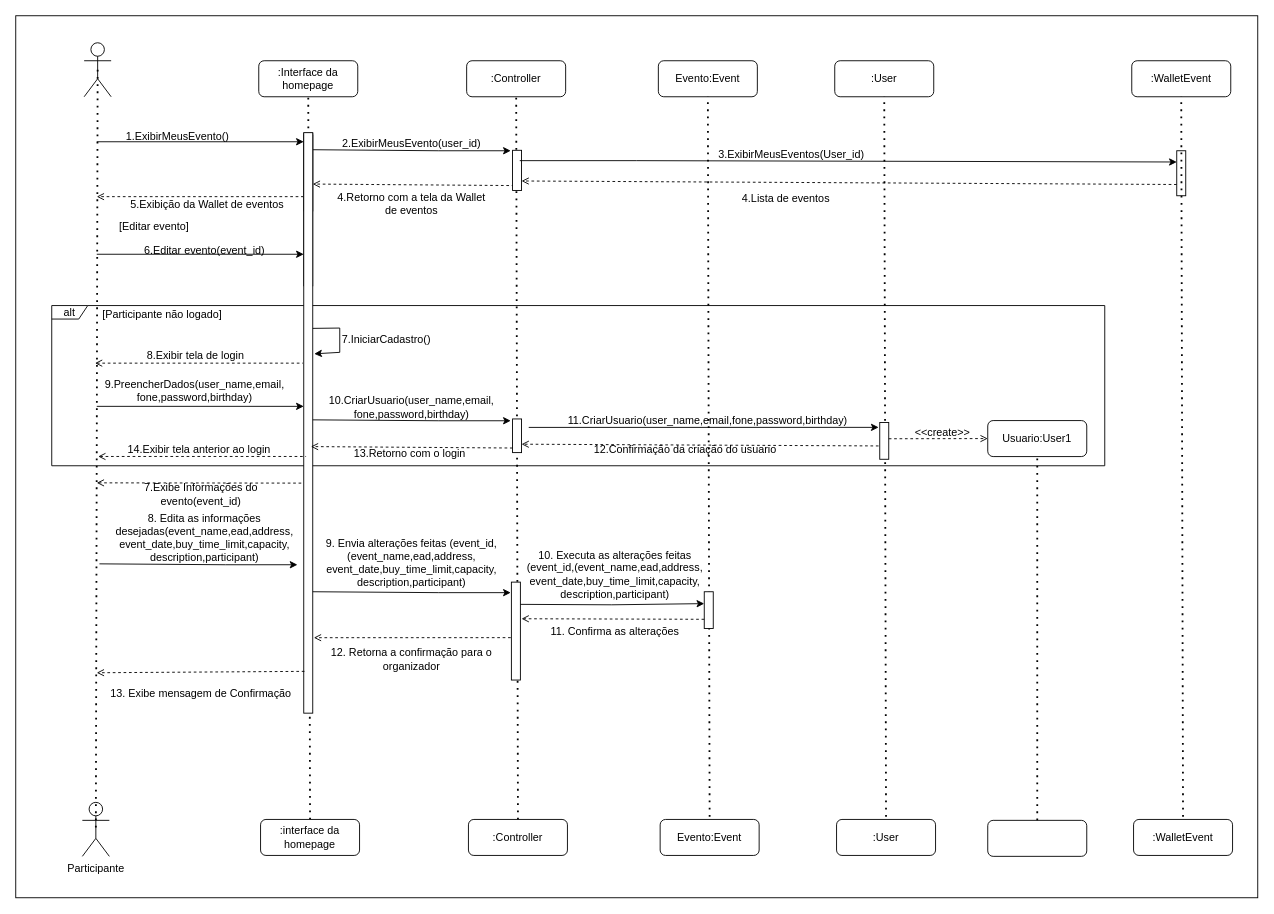
This 1274x914 diagram has some shape labels left out. Here are the shapes that lost their labels. From the top down, the centre of each, then its label:
At [97,69]: ":Participante".
At [1037,837]: "Usuario:User2".
